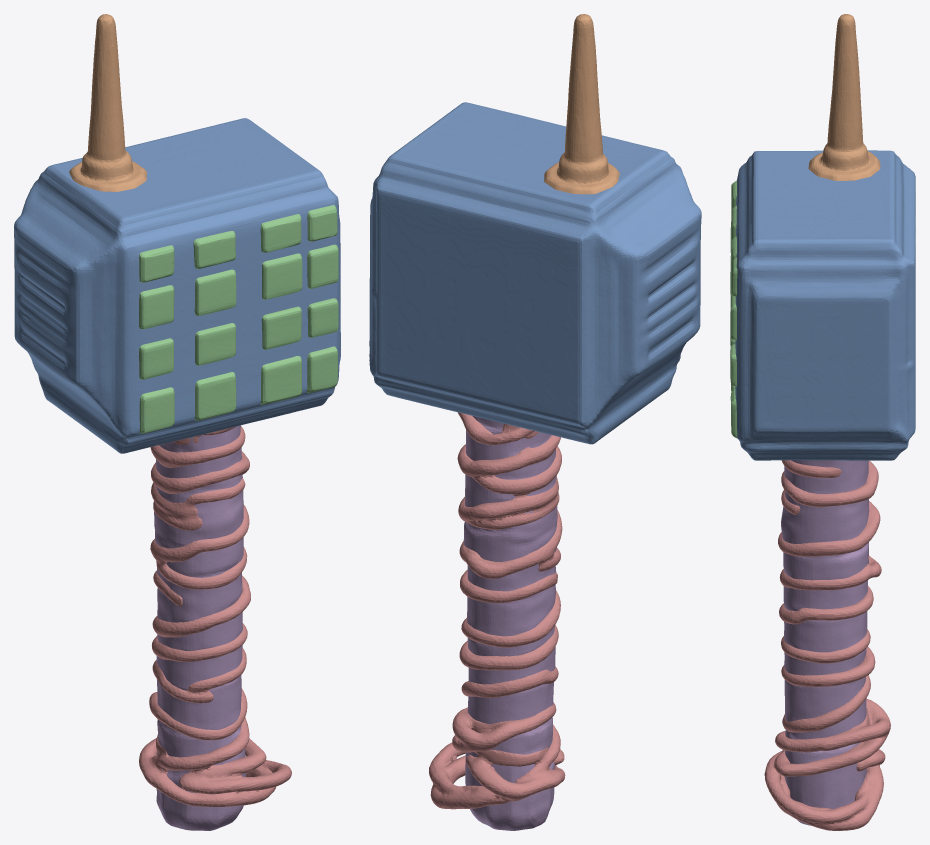
File: brick_phone_hammer_1.glb
3 views of the same model, side by side, from view 1: azimuth 30°, elevation 25°; view 2: azimuth 150°, elevation 25°; view 3: azimuth 270°, elevation 25° (orthographic). The views are drawn at different scales.
Parts seen in each view (by area): view 1: Phone_Brick_Head, Number_Pad_Face, Coiled_Cord_Wrap, Rubber_Grip, Antenna_Spike; view 2: Phone_Brick_Head, Coiled_Cord_Wrap, Rubber_Grip, Antenna_Spike; view 3: Phone_Brick_Head, Rubber_Grip, Coiled_Cord_Wrap, Antenna_Spike, Number_Pad_Face.
Part boxes in pixels (x1,y1,x2,y2): Phone_Brick_Head: [14, 118, 340, 453]; Number_Pad_Face: [139, 205, 338, 433]; Coiled_Cord_Wrap: [139, 425, 291, 807]; Rubber_Grip: [154, 425, 245, 830]; Antenna_Spike: [69, 14, 146, 191]; Phone_Brick_Head: [369, 102, 701, 444]; Coiled_Cord_Wrap: [429, 412, 565, 809]; Rubber_Grip: [463, 416, 557, 830]; Antenna_Spike: [544, 14, 619, 194]; Phone_Brick_Head: [735, 150, 915, 460]; Rubber_Grip: [781, 460, 869, 825]; Coiled_Cord_Wrap: [764, 460, 890, 830]; Antenna_Spike: [808, 14, 880, 180]; Number_Pad_Face: [730, 181, 737, 438].
Size of the model in its own units: 0.6503 by 1.92 by 0.4231.
